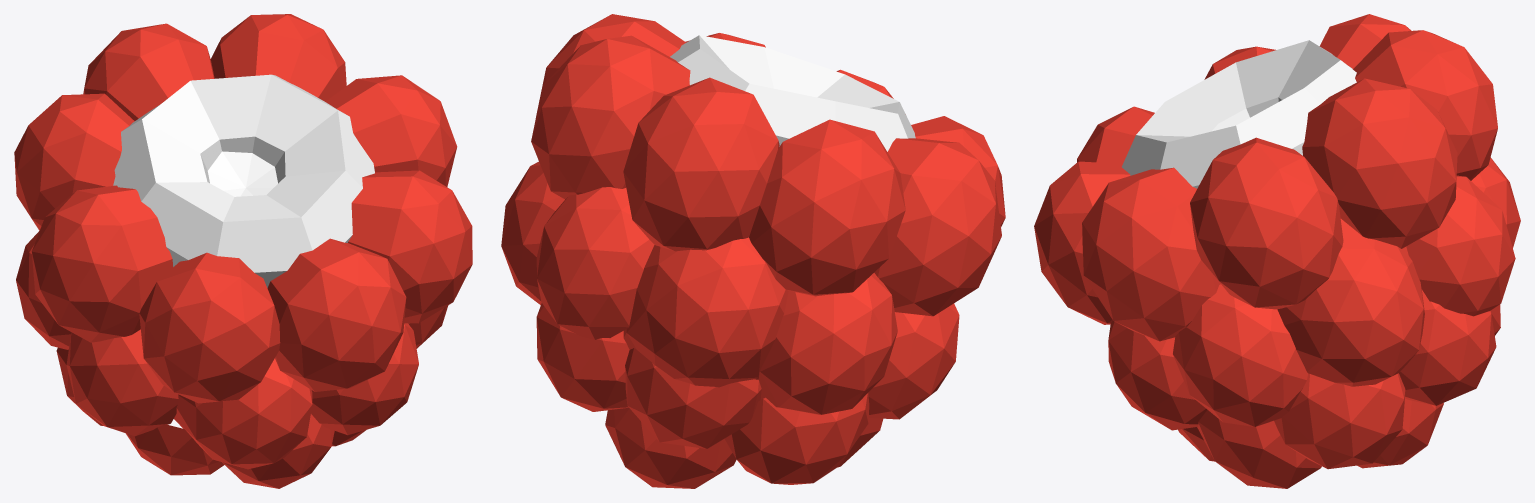
The model's file is raspberry.glb.
The picture shows the model from 3 angles, left to right: view 1: azimuth 30°, elevation 25°; view 2: azimuth 150°, elevation 25°; view 3: azimuth 270°, elevation 25°; orthographic projection. The views are drawn at different scales.
Parts seen in each view (by area): view 1: Icosphere.001_Icosphere.003; view 2: Icosphere.001_Icosphere.003; view 3: Icosphere.001_Icosphere.003.
Boxes of the visible parts, <box> form: Icosphere.001_Icosphere.003: <box>14,14,472,488</box>; Icosphere.001_Icosphere.003: <box>501,14,1005,488</box>; Icosphere.001_Icosphere.003: <box>1034,14,1520,488</box>.
Size of the model in its own units: 1.68 by 1.58 by 1.69.
